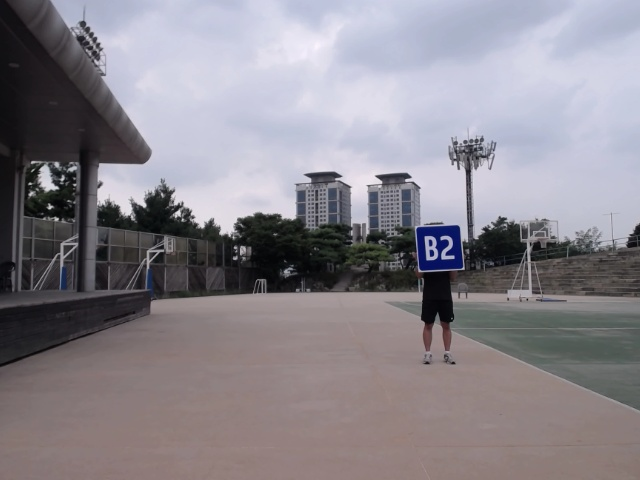delivery_b2: (414, 224, 466, 272)
